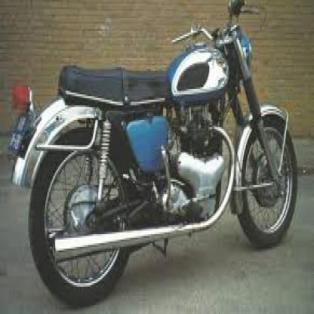Motocicleta: (5, 1, 307, 310)
